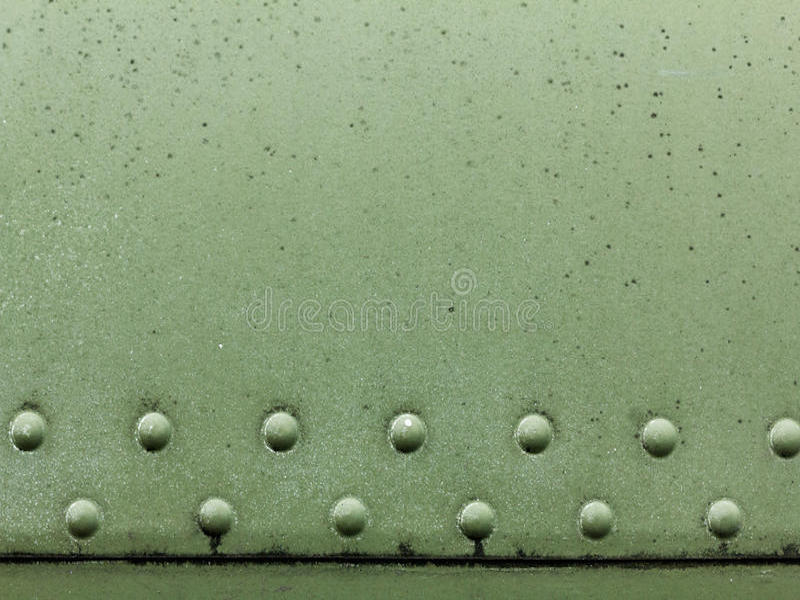rivet: (386, 407, 430, 456), (514, 407, 556, 457), (262, 405, 302, 457), (136, 408, 176, 454), (10, 406, 49, 453), (330, 494, 370, 539), (639, 414, 679, 459), (706, 493, 744, 539), (196, 495, 236, 538), (65, 496, 103, 541), (577, 497, 615, 541), (459, 498, 497, 540), (767, 416, 799, 461)
